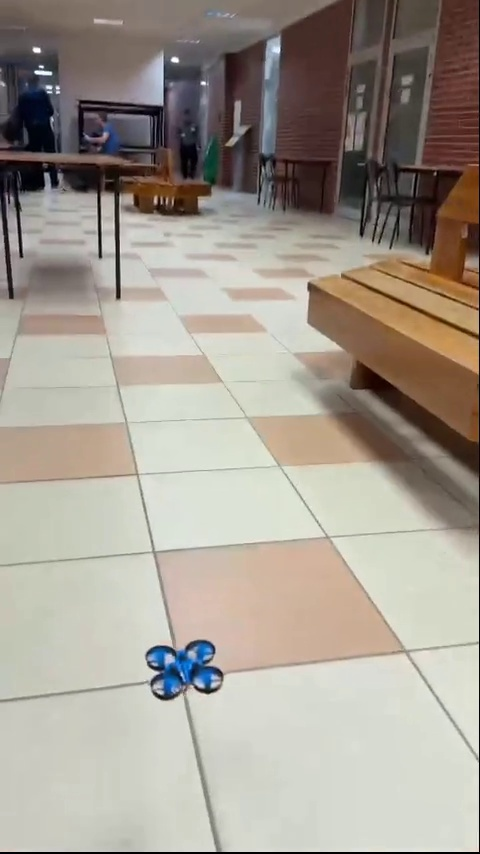drone: (147, 643, 231, 704)
no vest: (8, 78, 60, 180), (80, 102, 129, 159), (177, 93, 203, 177)
